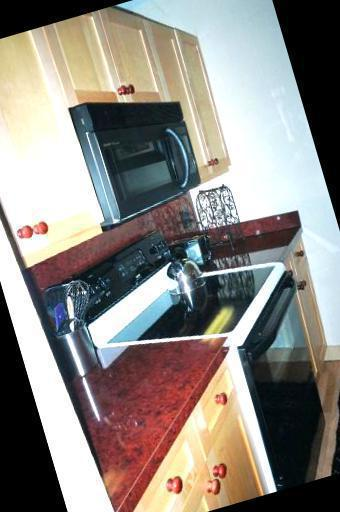Electrodomestico: (217, 263, 340, 487)
